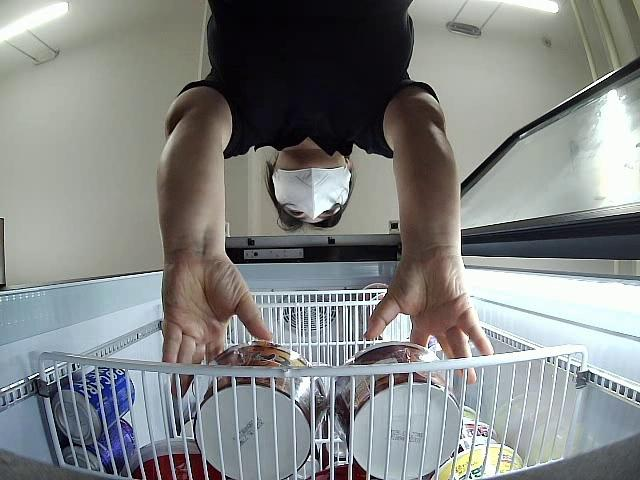00_hand: (363, 259, 494, 384), (160, 255, 273, 398)
05_nuguri_L: (188, 336, 329, 480), (328, 343, 463, 479)
